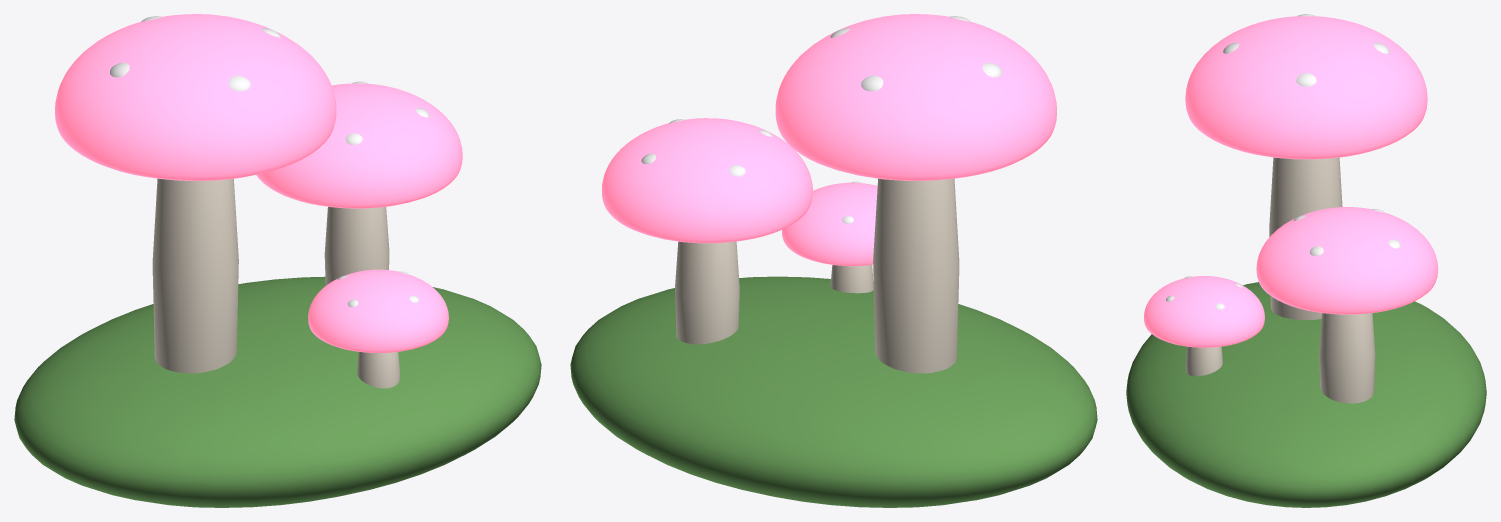
File: deco_hongos.glb
3 views of the same model, side by side, from view 1: azimuth 30°, elevation 25°; view 2: azimuth 150°, elevation 25°; view 3: azimuth 270°, elevation 25° (orthographic). The views are drawn at different scales.
Parts seen in each view (by area): view 1: musgo.001, sombrero hongo 0.001, sombrero hongo 1.001, tallo hongo 0.001, sombrero hongo 2.001, tallo hongo 1.001, tallo hongo 2.001; view 2: musgo.001, sombrero hongo 0.001, sombrero hongo 1.001, tallo hongo 0.001, tallo hongo 1.001, sombrero hongo 2.001, tallo hongo 2.001; view 3: musgo.001, sombrero hongo 0.001, sombrero hongo 1.001, sombrero hongo 2.001, tallo hongo 1.001, tallo hongo 0.001, tallo hongo 2.001.
Part boxes in pixels (x1,y1,x2,y2): musgo.001: (14,276,541,507); sombrero hongo 0.001: (55,14,336,180); sombrero hongo 1.001: (256,83,462,208); tallo hongo 0.001: (152,178,238,373); sombrero hongo 2.001: (308,269,448,352); tallo hongo 1.001: (324,206,389,285); tallo hongo 2.001: (357,352,399,388); musgo.001: (570,276,1097,507); sombrero hongo 0.001: (775,14,1056,180); sombrero hongo 1.001: (602,118,812,243); tallo hongo 0.001: (873,178,959,373); tallo hongo 1.001: (675,241,739,344); sombrero hongo 2.001: (782,182,877,266); tallo hongo 2.001: (830,265,873,293); musgo.001: (1126,282,1486,507); sombrero hongo 0.001: (1185,16,1427,159); sombrero hongo 1.001: (1256,207,1438,314); sombrero hongo 2.001: (1144,276,1264,347); tallo hongo 1.001: (1319,313,1375,403); tallo hongo 0.001: (1269,157,1342,319); tallo hongo 2.001: (1185,346,1222,376).
Bounding box in the file's own units: 0.2355 × 0.2051 × 0.1766.
